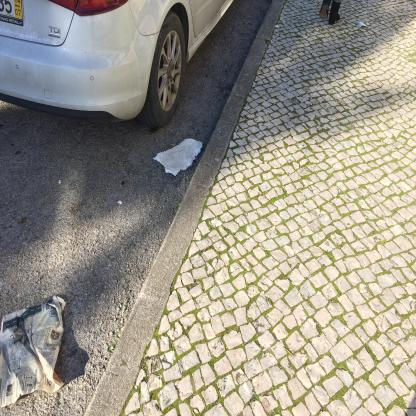kagit: (2, 293, 70, 409), (360, 23, 370, 29)
kopuk: (154, 139, 204, 177)
